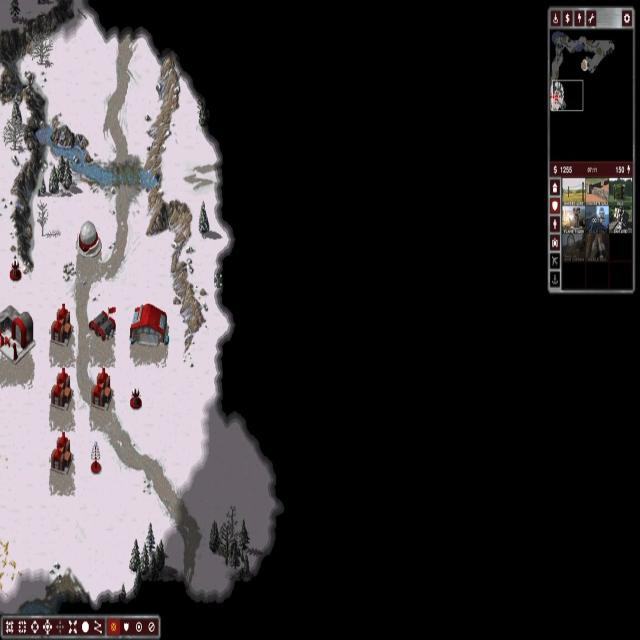bingying: (89, 310, 115, 340)
dianchang: (50, 431, 73, 475), (50, 367, 72, 409), (51, 303, 72, 346), (92, 366, 112, 410)
jidi: (0, 306, 34, 362)
jungongchang: (130, 303, 168, 346)
leida: (78, 221, 101, 257)
